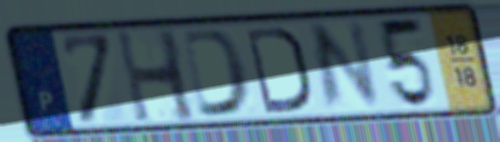5: (370, 16, 437, 111)
7: (63, 30, 114, 127)
D: (178, 26, 253, 120), (242, 24, 312, 117)
H: (111, 26, 201, 128)
N: (306, 18, 384, 116)
